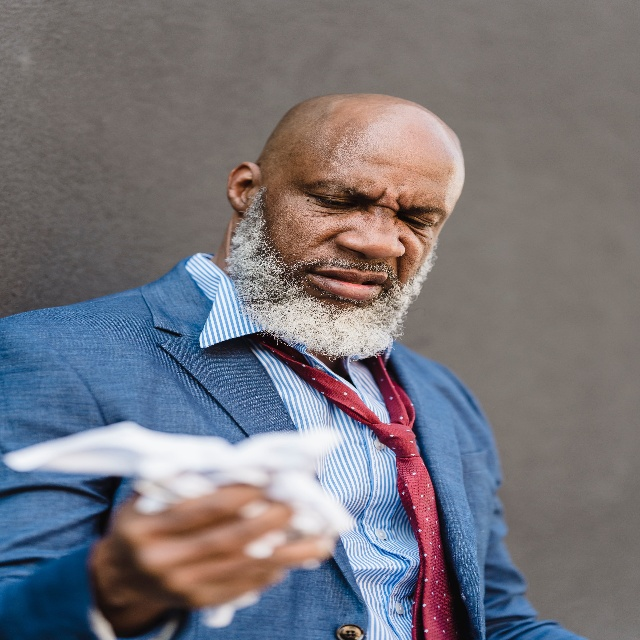Sin_guantes: (106, 482, 336, 600)
